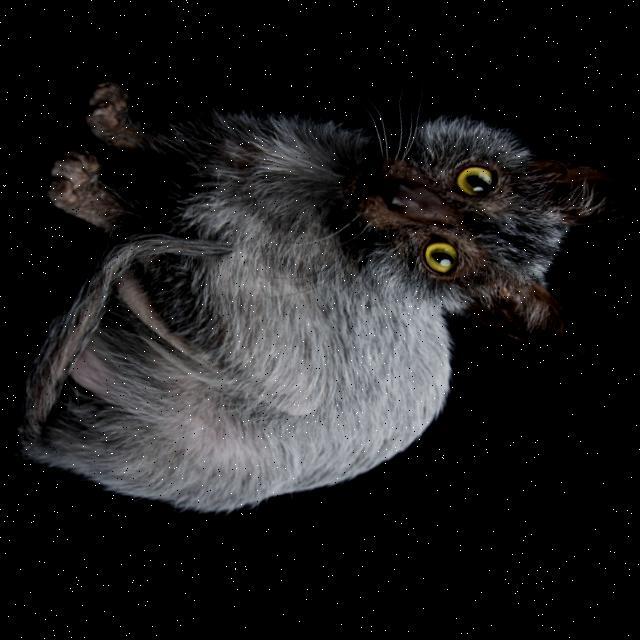Lykoi: (0, 10, 640, 614)
